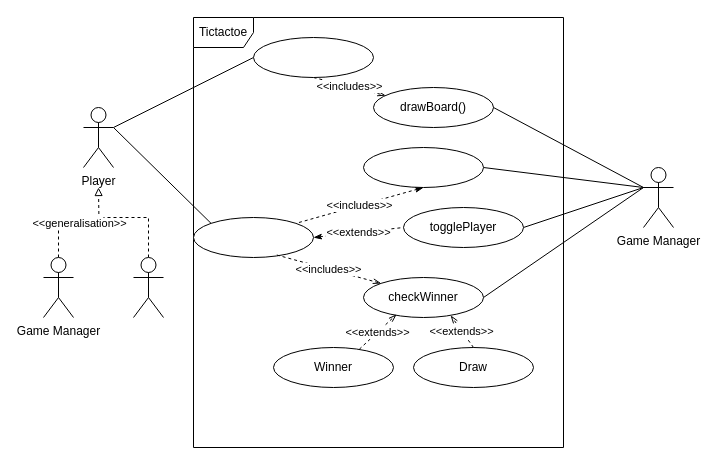
This 717x465 diagram has some shape labels left out. Here are the shapes that lost their labels. From the top down, the centre of each, then its label:
At [313,57]: "initalise game".
At [423,167]: "validateMove()".
At [253,237]: "Place X,O".
At [148,287]: "X,O".
